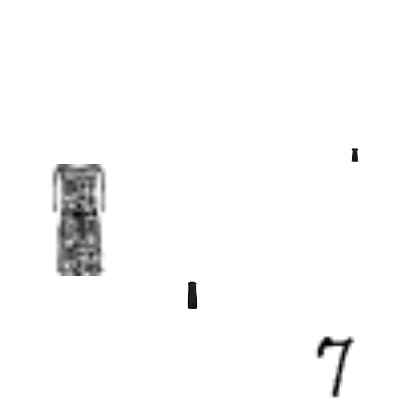7: (291, 316, 375, 400)
Dress: (21, 164, 133, 276), (178, 281, 206, 309), (348, 148, 362, 162)
